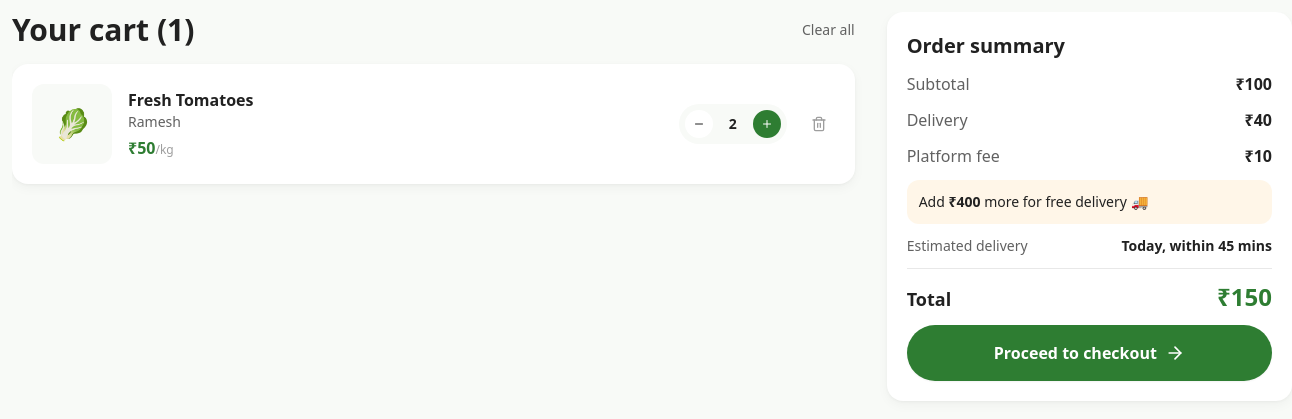
Scenario: CartPage — Quantity controls › increments quantity when + is clicked
Click the button with test id "qty-increase" at (767, 124), box x1=753 y1=110 x2=781 y2=138
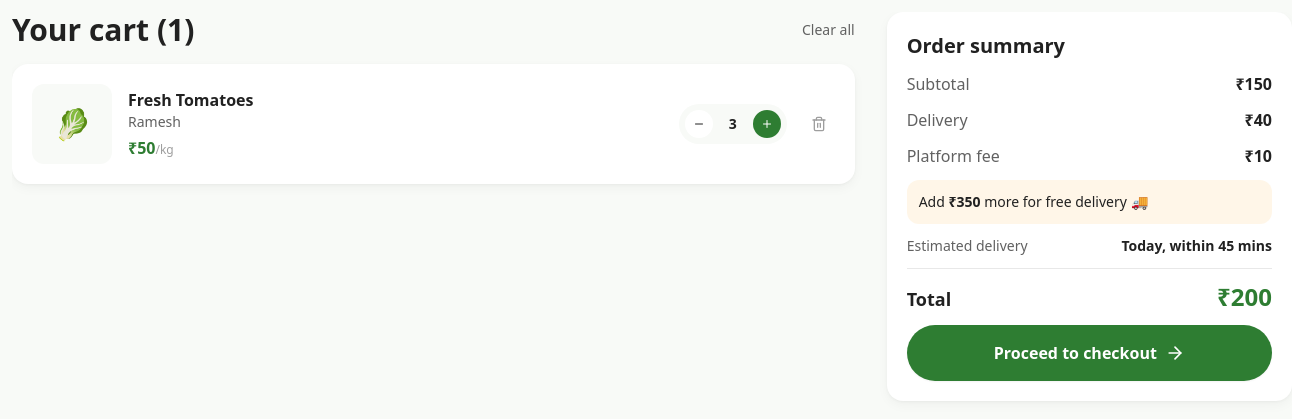
Check: the text with test id "qty-value" reads "3", box x1=729 y1=114 x2=737 y2=133
